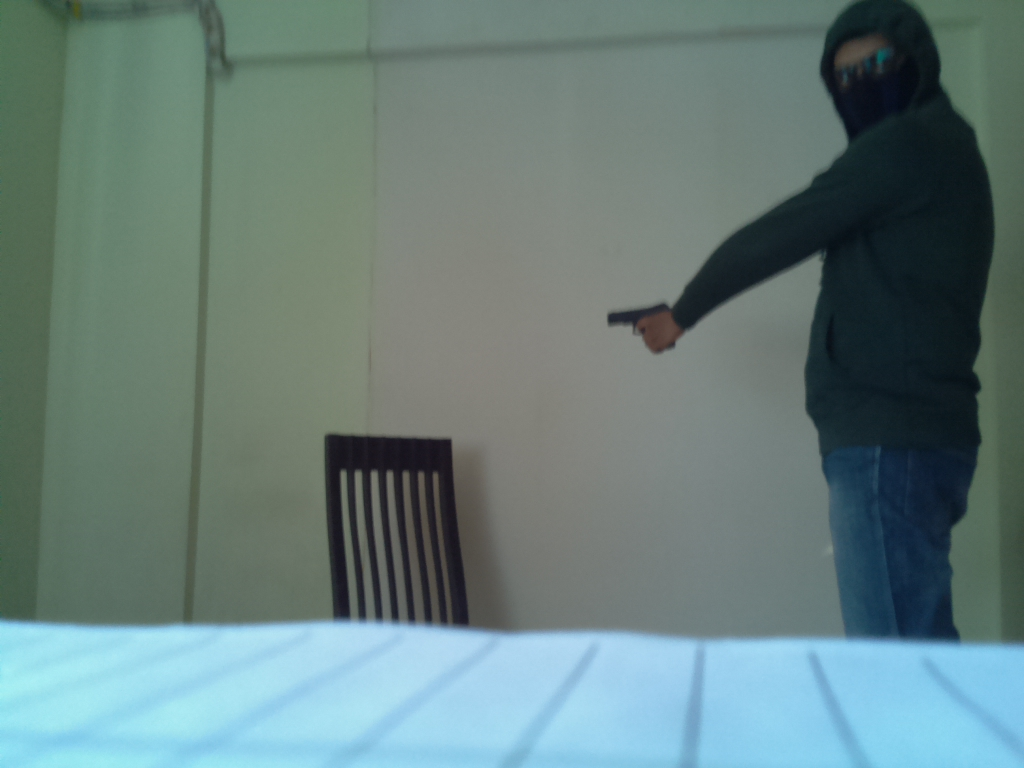gun: (604, 297, 674, 353)
